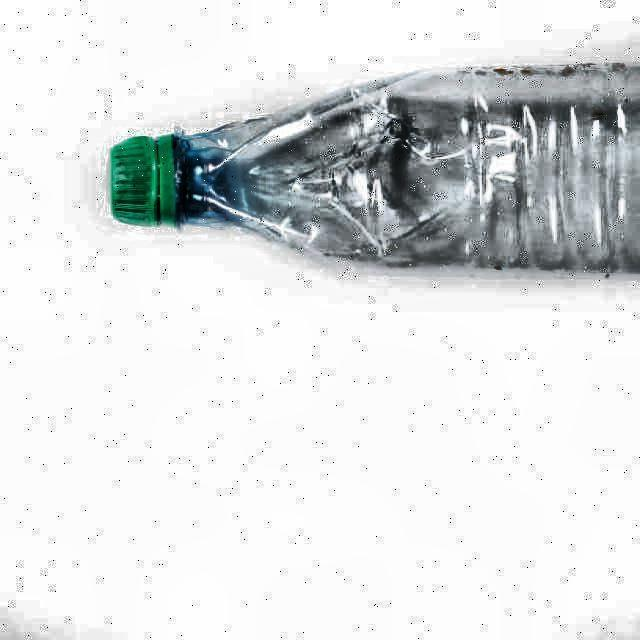plastic: (110, 65, 640, 272)
